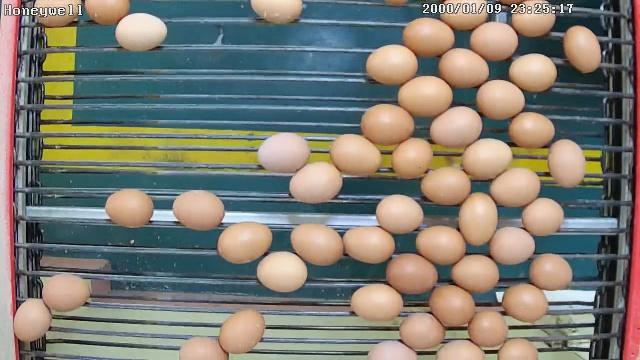egg: (216, 219, 274, 267), (396, 73, 454, 120), (364, 42, 420, 88), (170, 188, 227, 233), (328, 132, 382, 178), (290, 222, 344, 268), (456, 190, 498, 248), (289, 161, 344, 205), (436, 46, 491, 90), (113, 11, 169, 54), (255, 131, 311, 174), (400, 15, 456, 58), (460, 136, 513, 181), (384, 252, 438, 296), (254, 250, 308, 294), (360, 102, 416, 144), (427, 105, 483, 147), (218, 307, 266, 356), (340, 224, 396, 266), (104, 188, 156, 232), (420, 165, 472, 209), (414, 224, 466, 267), (474, 78, 526, 121), (489, 165, 541, 208), (500, 279, 550, 323), (450, 252, 500, 296), (350, 282, 405, 322), (40, 271, 92, 313), (428, 283, 476, 328), (468, 19, 518, 62), (374, 194, 424, 236), (547, 138, 587, 190), (488, 224, 536, 266), (508, 53, 558, 93), (389, 135, 432, 181), (11, 296, 52, 344), (520, 195, 564, 238), (398, 310, 445, 350), (564, 25, 602, 74), (508, 110, 554, 150), (527, 252, 573, 292), (467, 307, 509, 350)
